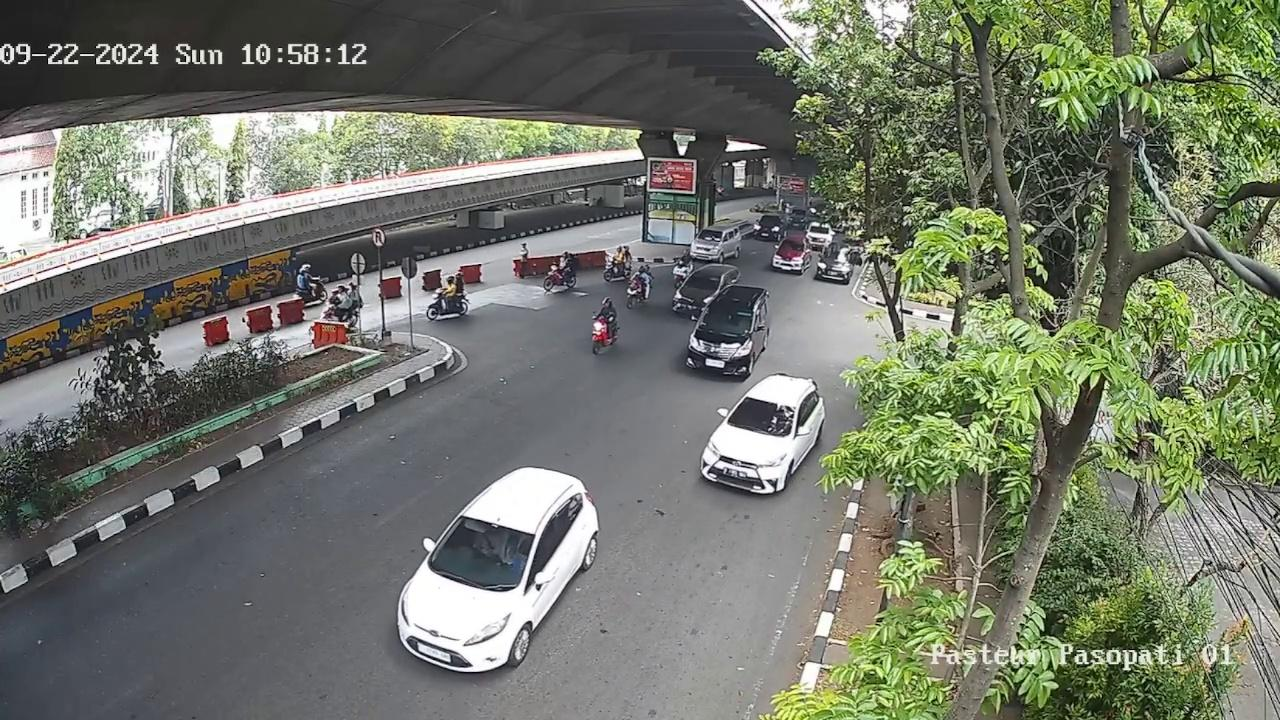pakai: (473, 529, 506, 558)
windshield: (431, 518, 538, 583), (726, 396, 800, 433), (705, 302, 757, 332)
